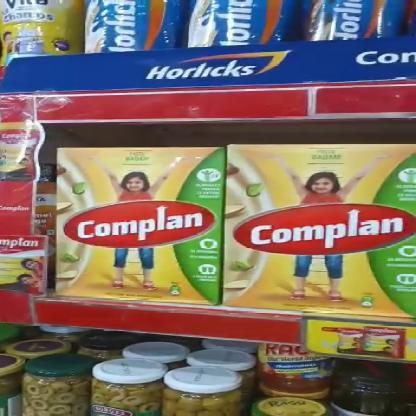Complan Pista Badam: (227, 144, 415, 316), (56, 147, 218, 302)
